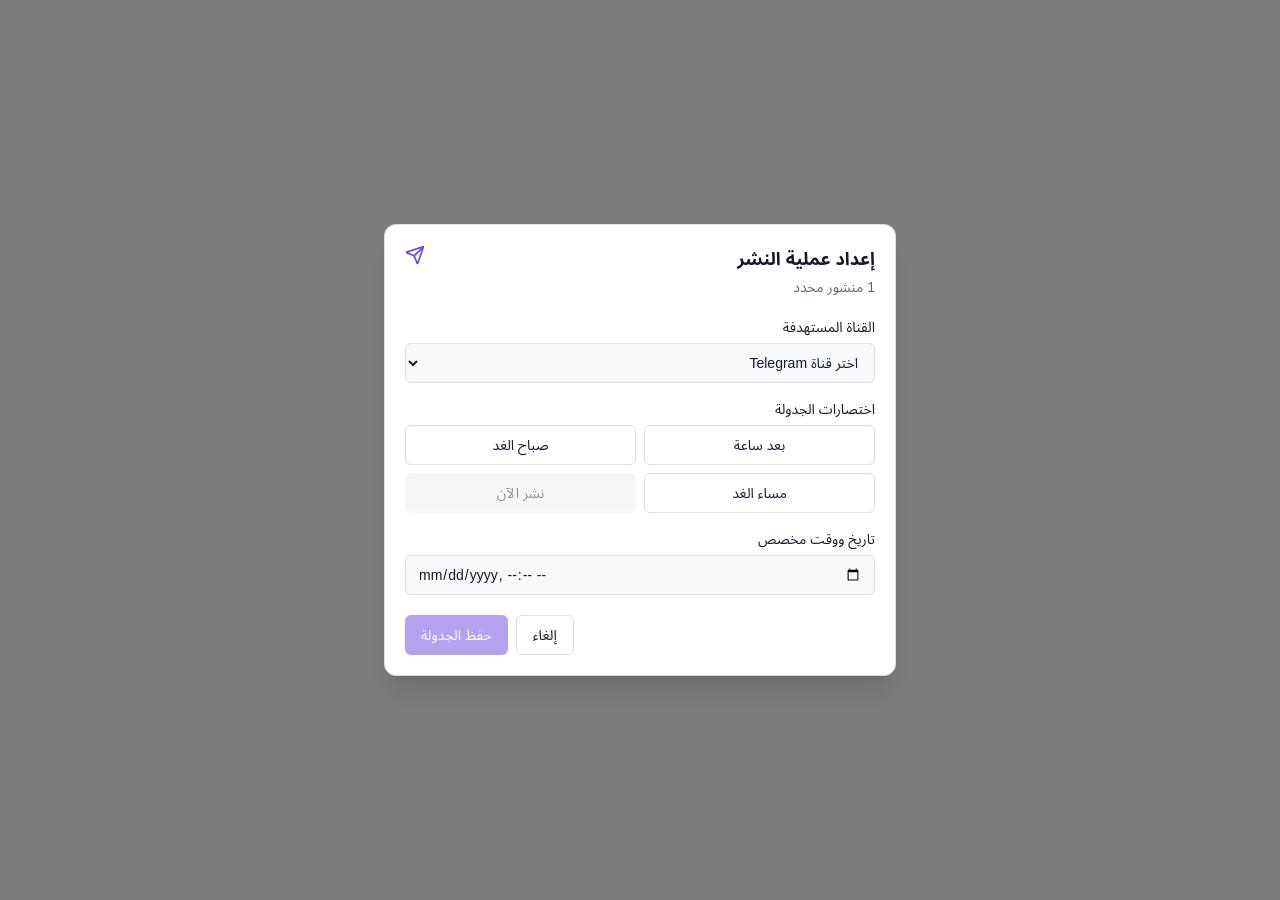
it: QueueSchedulingDialog › shows an invalid scheduledAt error and does not submit
The image size is (1280, 900).
Select "قناة الاختبار" in the dropdown labelled "القناة المستهدفة" at (640, 363), box [405,343,875,383]
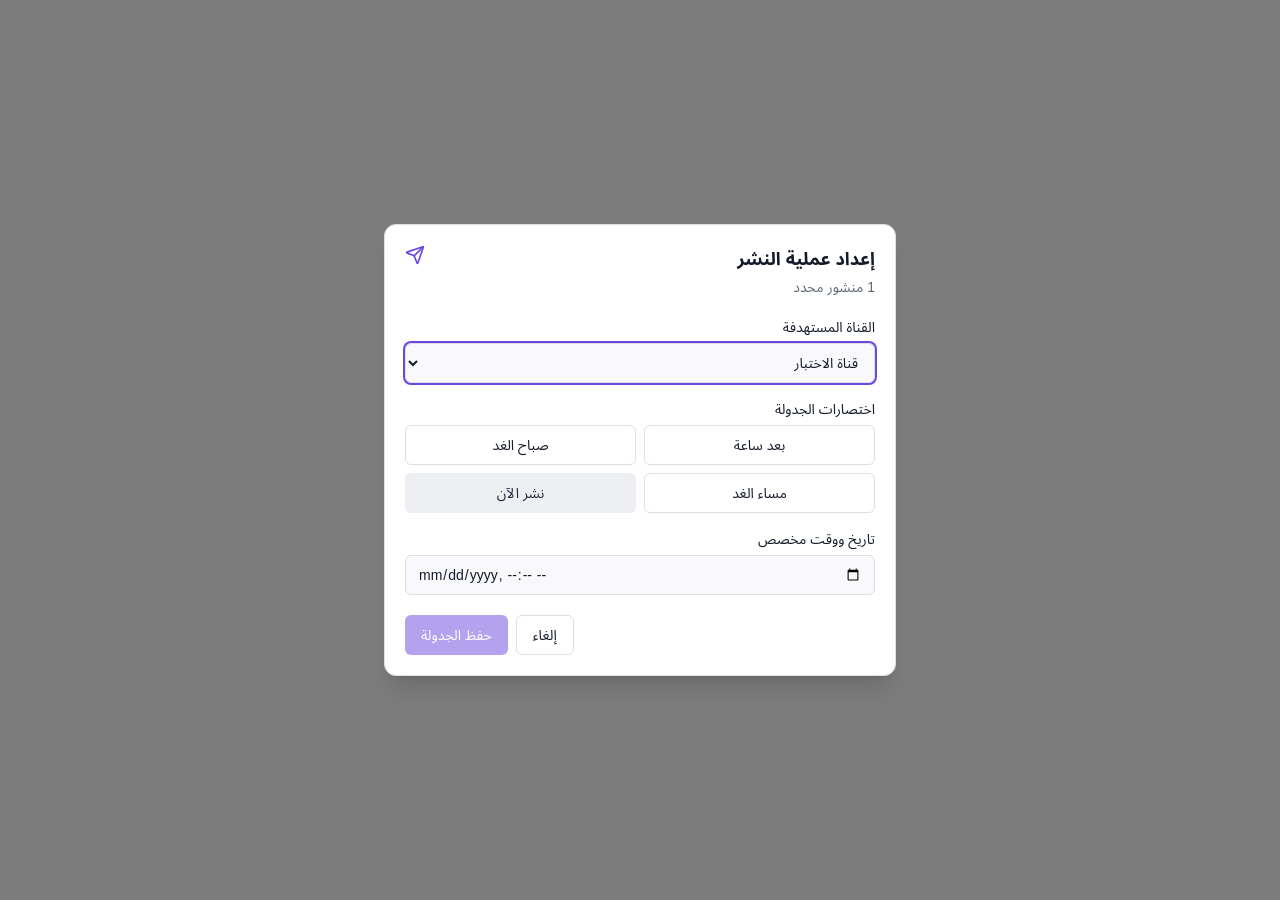
Type "2099-06-15T14:30:45" into the field labelled "تاريخ ووقت مخصص" at (640, 575), box [405,555,875,595]
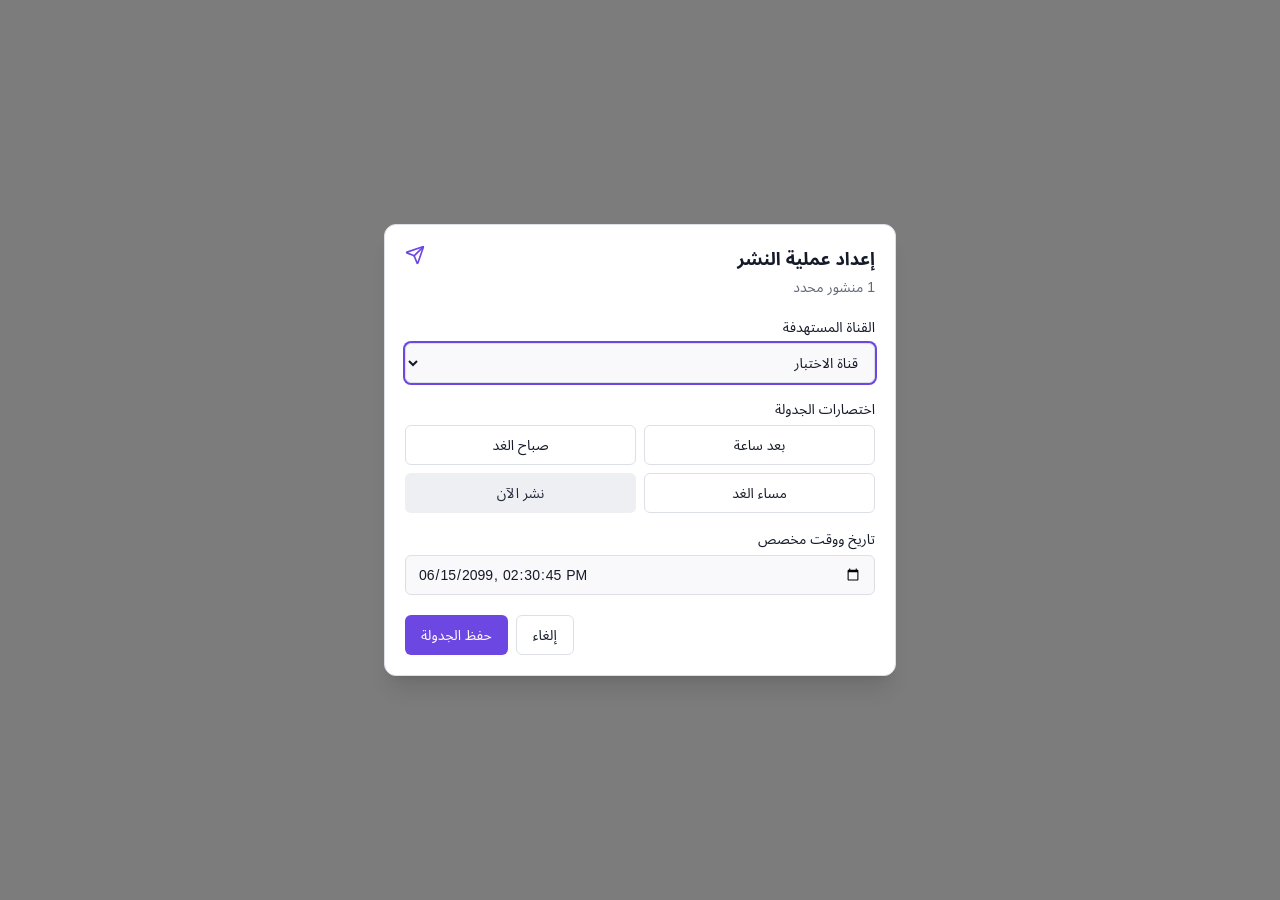
Click the button "حفظ الجدولة" at (456, 635), box [405,615,508,655]
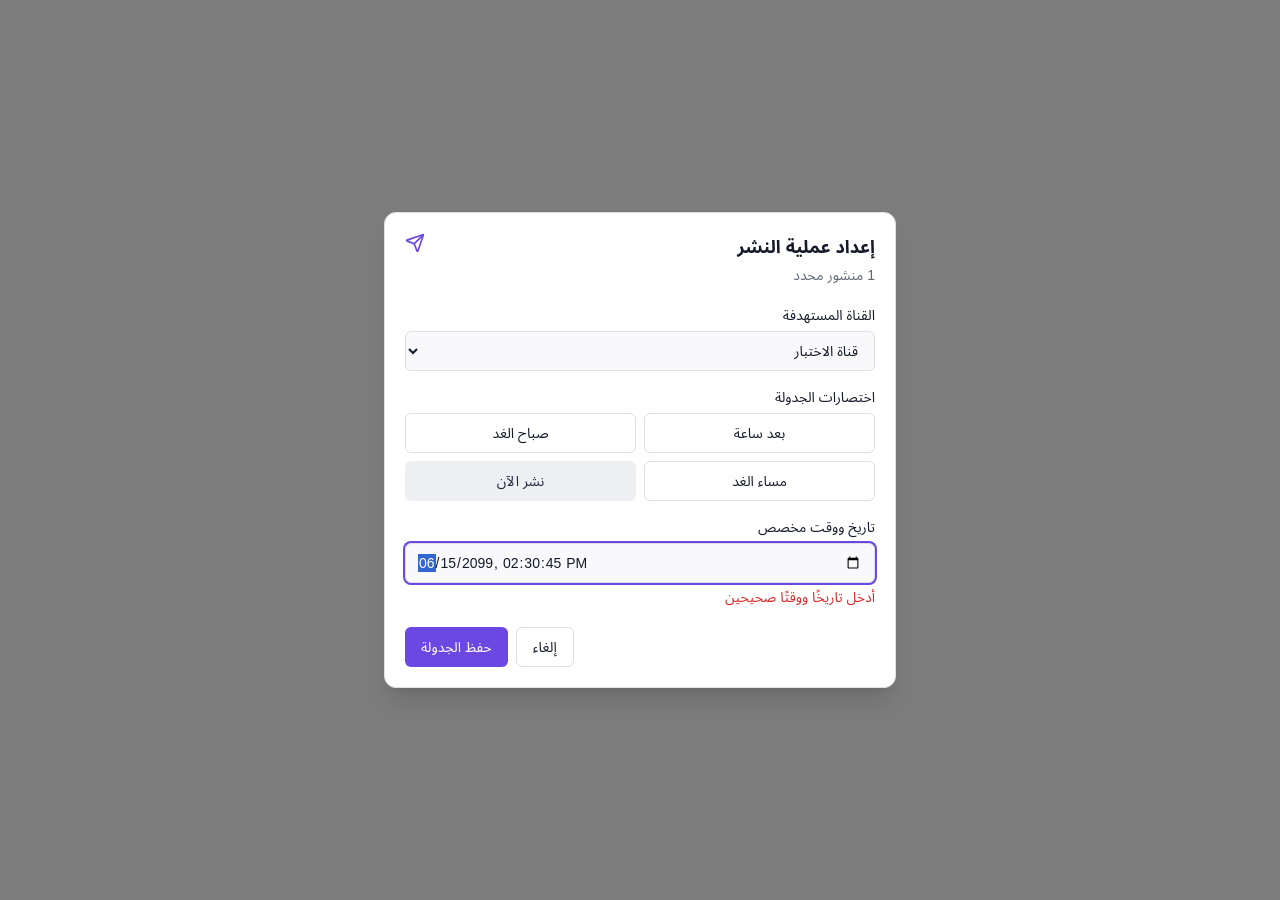
expect the text "أدخل تاريخًا ووقتًا صحيحين" is shown: met, box [725,589,875,605]
